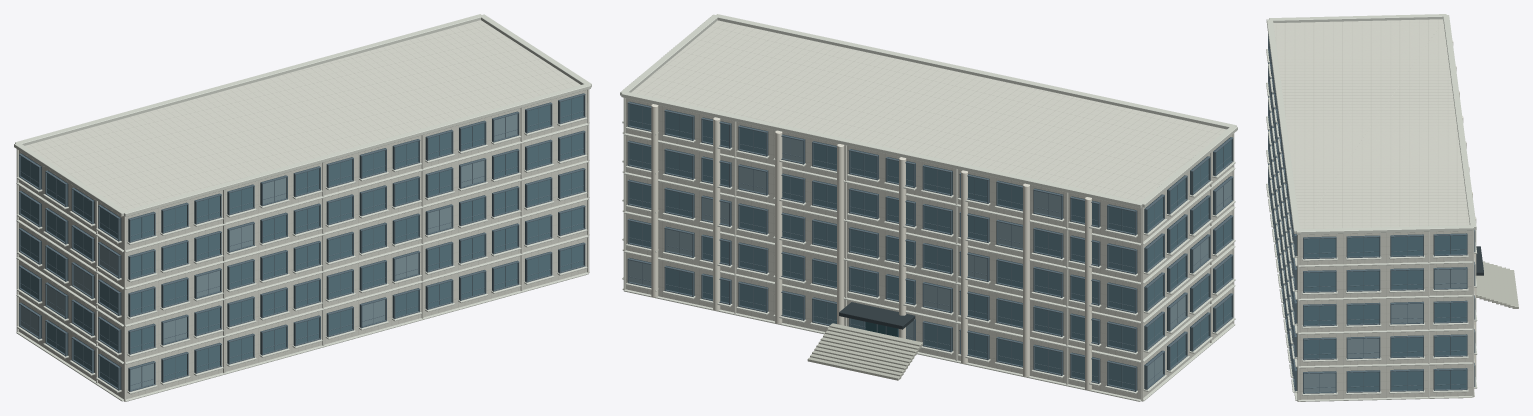
The model's file is theology.glb.
3 renders of one model, left to right at view 1: azimuth 30°, elevation 25°; view 2: azimuth 150°, elevation 25°; view 3: azimuth 270°, elevation 25°, orthographic. The views are drawn at different scales.
Visible parts, largest first — view 1: theology_body_eceee3, theology, theology_stone_e0e5db, theology_glass_90a8b0, theology_stone_eceee3; view 2: theology_body_eceee3, theology, theology_stone_e0e5db, theology_cylinder_f3f2e5, theology_glass_90a8b0, theology_stone_c9ccc0, theology_stone_eceee3, theology_stone_3a464b; view 3: theology_body_eceee3, theology, theology_stone_e0e5db, theology_glass_90a8b0, theology_stone_c9ccc0, theology_stone_eceee3, theology_cylinder_f3f2e5.
Boxes of the visible parts, x1,y1,x2,y2 form: theology_body_eceee3: (19,20,587,399); theology: (19,93,585,391); theology_stone_e0e5db: (14,14,591,401); theology_glass_90a8b0: (20,114,517,389); theology_stone_eceee3: (16,89,589,401); theology_body_eceee3: (625,20,1232,399); theology: (627,101,1233,391); theology_stone_e0e5db: (620,14,1237,401); theology_cylinder_f3f2e5: (651,104,1091,390); theology_glass_90a8b0: (629,137,1231,386); theology_stone_c9ccc0: (807,323,922,380); theology_stone_eceee3: (623,98,1234,401); theology_stone_3a464b: (839,302,915,329); theology_body_eceee3: (1273,19,1472,399); theology: (1268,33,1475,393); theology_stone_e0e5db: (1266,14,1477,401); theology_glass_90a8b0: (1304,269,1466,392); theology_stone_c9ccc0: (1476,261,1518,308); theology_stone_eceee3: (1297,230,1474,401); theology_cylinder_f3f2e5: (1452,40,1476,379).
Size of the model in its own units: 50.12 by 18.28 by 24.49.
Materials: 11 (1 with a texture image).
